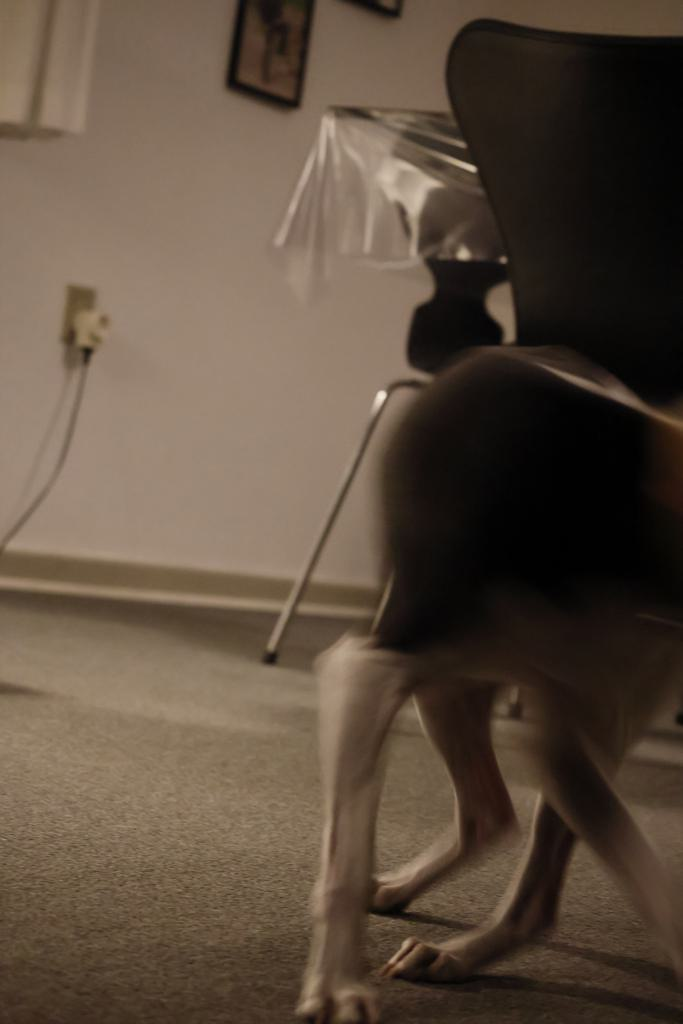Dog: (280, 331, 683, 1024)
